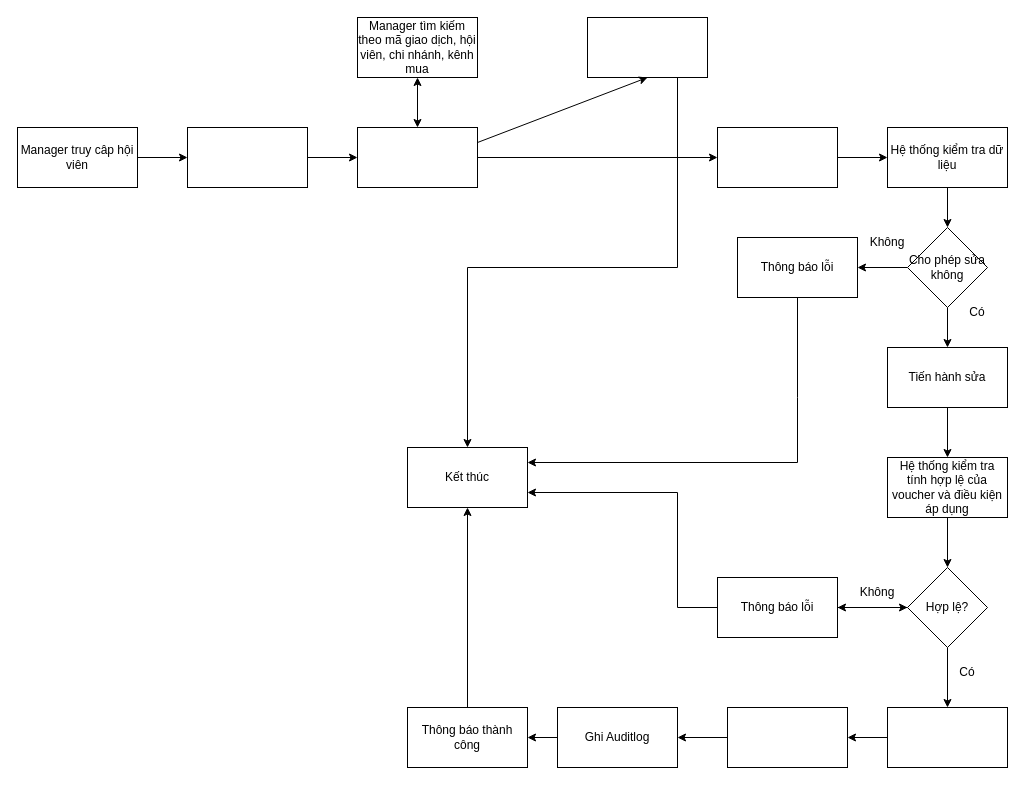
This 1025x785 diagram has some shape labels left out. Each missing label, with the centre of its shape:
"Cập nhật gói tập, khuyến mãi, tiền thực thu, lý do điều chỉnh" belongs at [947,737].
"Hóa đơn" belongs at [247,157].
"Hệ hống hiển thị danh sách hóa đơn thuộc các chi nhánh quản lý" belongs at [417,157].
"Lưu CSDL" belongs at [787,737].
"Sửa hóa đơn" belongs at [777,157].
"Xem hóa đơn chi tiết" belongs at [647,47].
